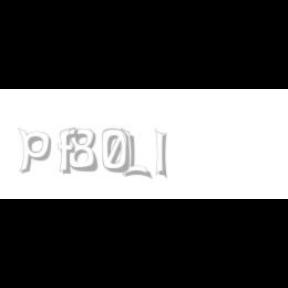0: (102, 128, 132, 174)
8: (68, 128, 97, 172)
I: (156, 128, 168, 180)
L: (121, 128, 149, 180)
f: (58, 128, 82, 174)
p: (18, 128, 55, 174)
